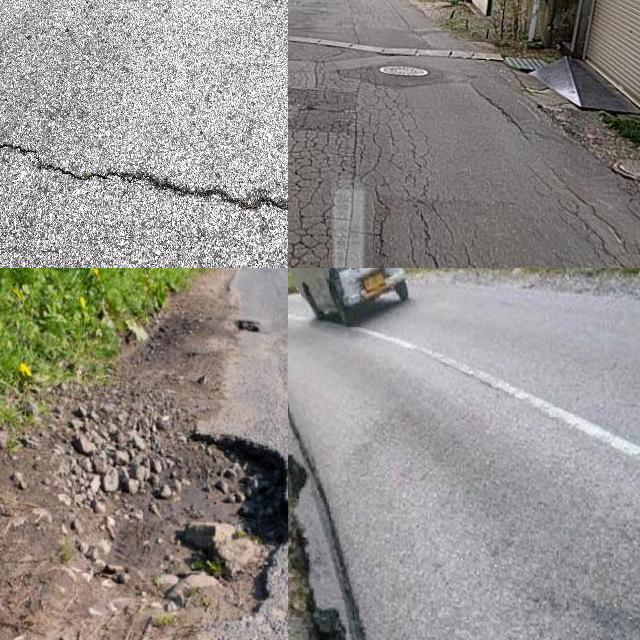Melintang: (0, 118, 288, 223)
Pinggir: (110, 419, 288, 640), (288, 365, 394, 640)
